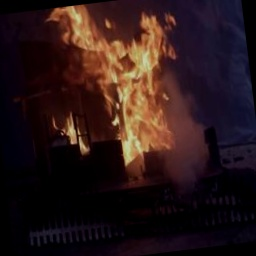fire: (29, 0, 198, 180)
